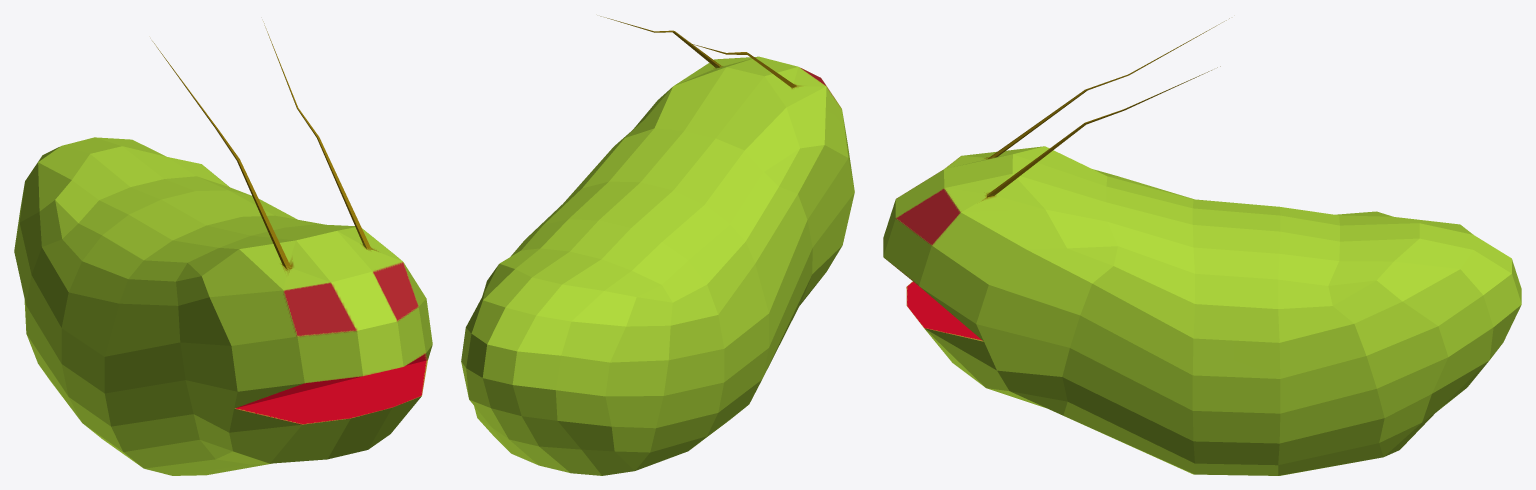
The model's file is ChasingEnemy.obj.
3 renders of one model, left to right at view 1: azimuth 30°, elevation 25°; view 2: azimuth 150°, elevation 25°; view 3: azimuth 270°, elevation 25°, orthographic. The views are drawn at different scales.
Parts seen in each view (by area): view 1: 立方体; view 2: 立方体; view 3: 立方体.
Part boxes in pixels (x1=…): 立方体: x1=14, y1=21, x2=432, y2=475; 立方体: x1=461, y1=16, x2=854, y2=475; 立方体: x1=883, y1=18, x2=1521, y2=475.
Bounding box in the file's own units: 0.9709 × 1.69 × 2.33.
1 material, 1 textured.
